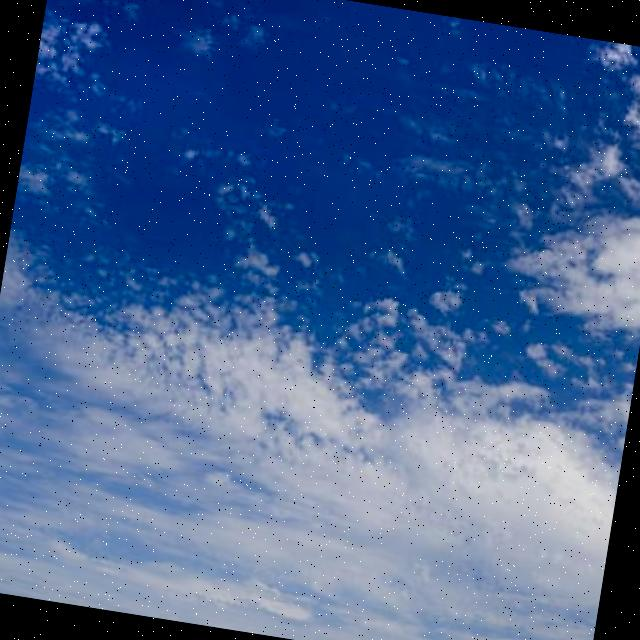Ci: (1, 1, 640, 634)
